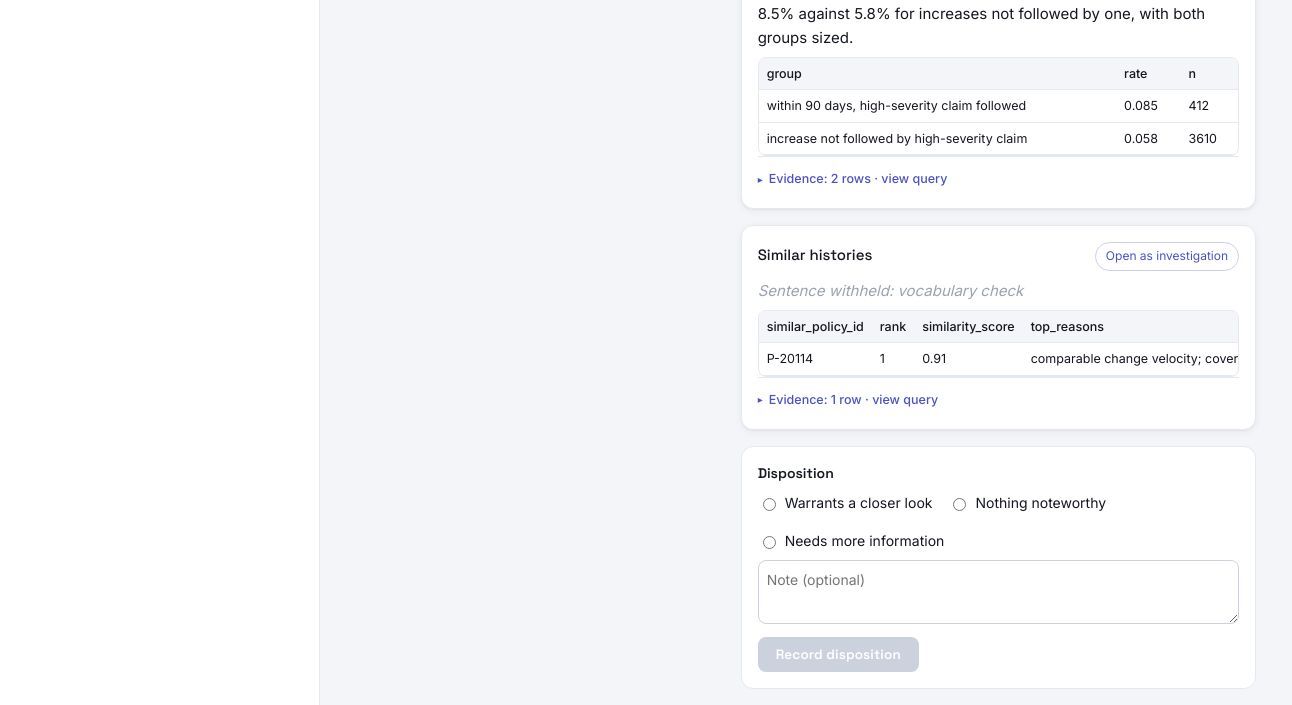
Test: ReviewView (mock mode) › shows a withheld sentence and lets the reviewer record a Disposition
The width and height of the screenshot is (1292, 705).
(page scrolled)
Expected: the text "Sentence withheld: vocabulary check" is shown, [758, 281, 1023, 300]
Click the radio button labelled "Nothing noteworthy": [960, 505] box [954, 498, 966, 511]
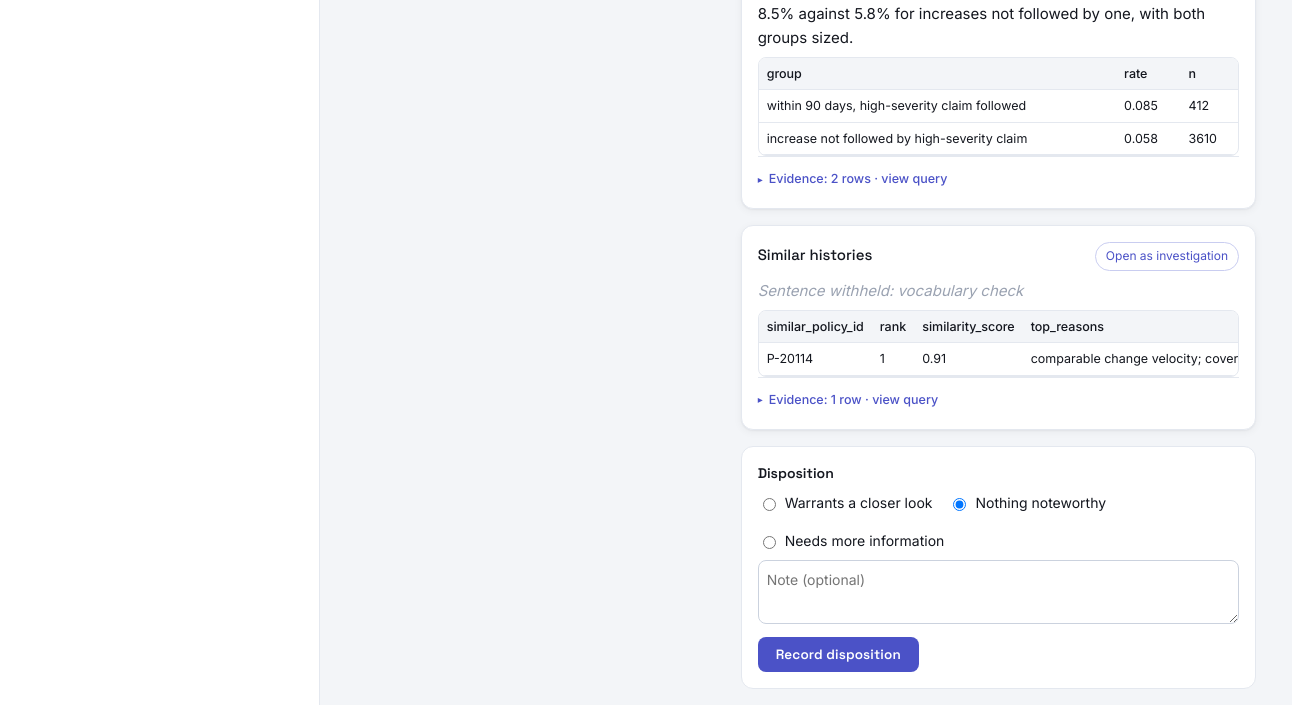
Click the button "Record disposition": [838, 655] box [758, 637, 919, 672]
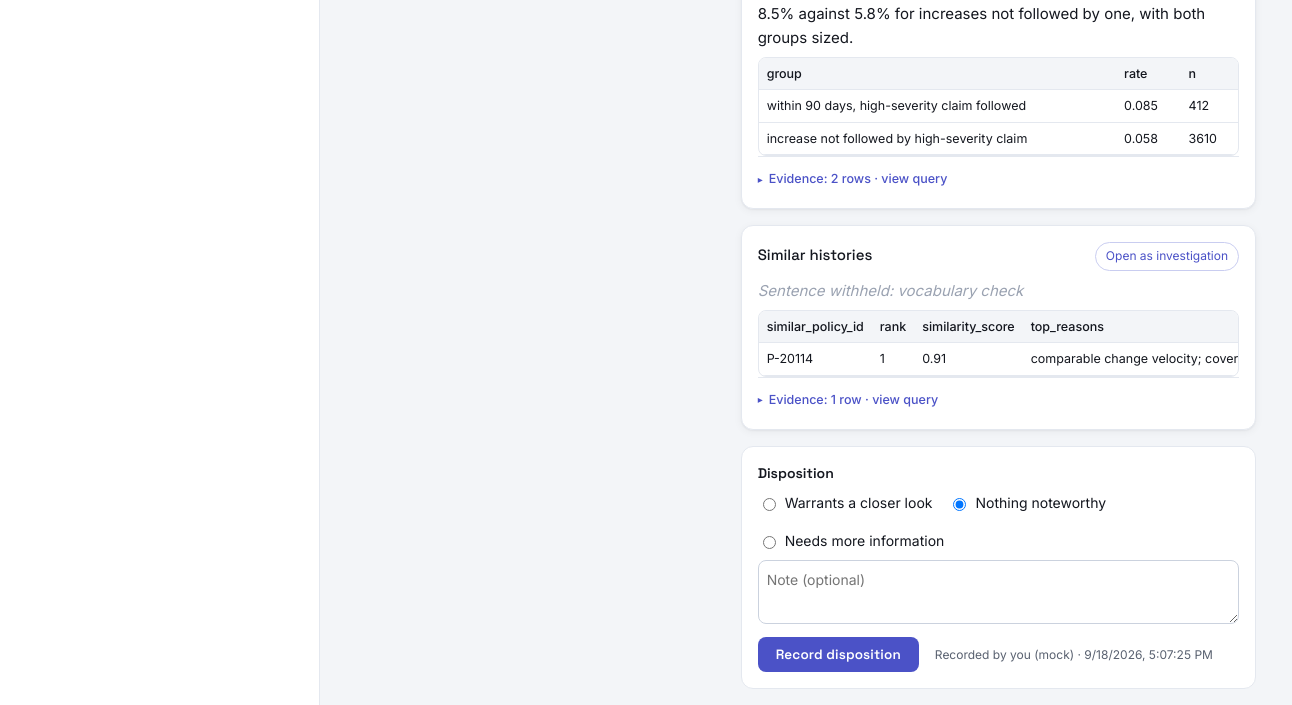
Now the text "Recorded by you (mock) · 9/18/2026, 5:07:25 PM" is shown, box [935, 646, 1213, 664]
